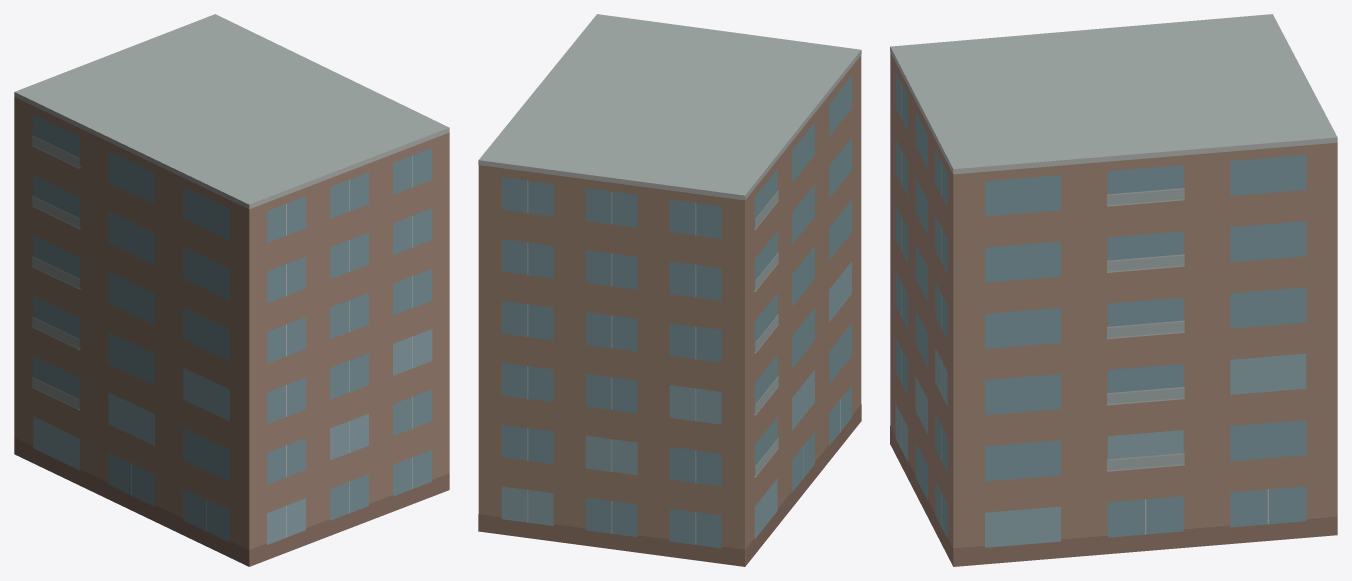
Rendered from survey-upis-32720021.glb.
The picture shows the model from 3 angles, left to right: view 1: azimuth 30°, elevation 25°; view 2: azimuth 150°, elevation 25°; view 3: azimuth 270°, elevation 25°; orthographic projection. The views are drawn at different scales.
Visible parts, largest first — view 1: survey-upis-32720021.tmp; view 2: survey-upis-32720021.tmp; view 3: survey-upis-32720021.tmp.
Part boxes in pixels (x1,y1,x2,y2): survey-upis-32720021.tmp: (14, 14, 449, 566); survey-upis-32720021.tmp: (478, 14, 861, 566); survey-upis-32720021.tmp: (890, 14, 1337, 566).
Size of the model in its own units: 15.67 by 18.7 by 19.08.
